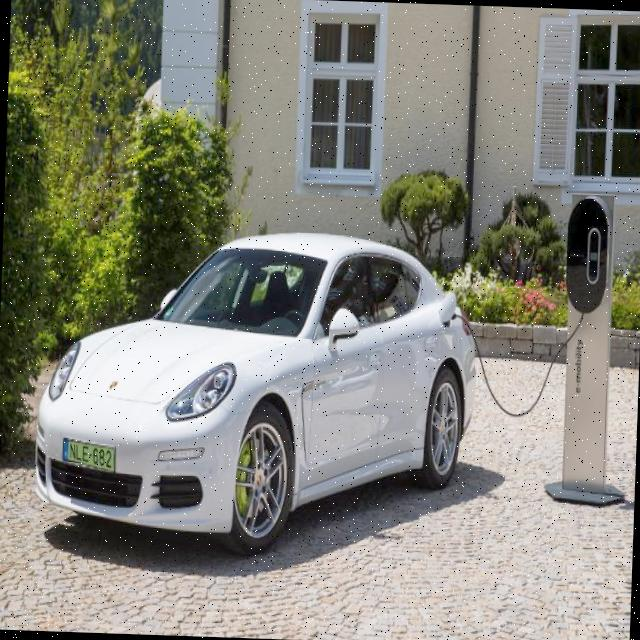licence: (61, 435, 116, 471)
